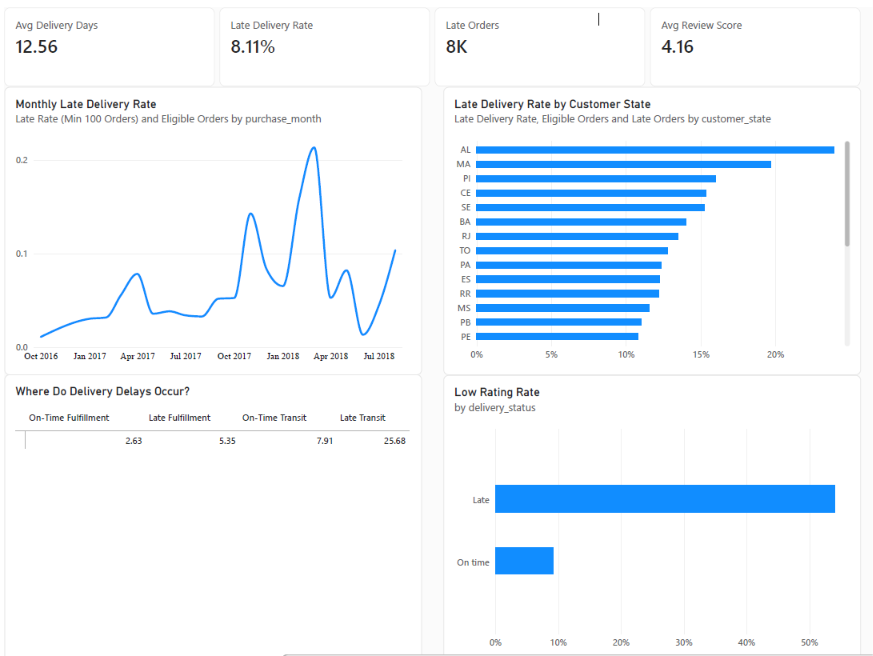

Layout of this report page (visuals, bound fields, positions):
{"tool":"powerbi","page":{"name":"Page 1","canvas":[1920,1080],"ordinal":0},"visuals":[{"type":"lineChart","title":"Monthly Late Delivery Rate","fields":{"Category":["dashboard_orders.purchase_month"],"Y":["dashboard_orders.Late Rate (Min 100 Orders)"]},"box":[0,121.7,641.7,443.3],"z":0},{"type":"cardVisual","fields":{"Data":["dashboard_orders.Avg Delivery Days","dashboard_orders.Late Delivery Rate","dashboard_orders.Late Orders","dashboard_orders.Avg Review Score"]},"box":[0,0,1316.7,121.7],"z":1000},{"type":"clusteredBarChart","title":"Late Delivery Rate by Customer State","fields":{"Category":["dashboard_orders.customer_state"],"Y":["dashboard_orders.Late Delivery Rate"]},"box":[675,121.7,641.7,443.3],"z":2000},{"type":"clusteredBarChart","fields":{"Category":["dashboard_orders.delivery_status"],"Y":["dashboard_orders.Low Rating Rate"]},"box":[675,565,641.7,443.3],"z":2002},{"type":"pivotTable","title":"Where Do Delivery Delays Occur?","fields":{"Values":["dashboard_orders.On-Time Fulfillment","dashboard_orders.Late Fulfillment","dashboard_orders.On-Time Transit","dashboard_orders.Late Transit"]},"box":[0,564,642,444],"z":2003}]}

Visuals, with their boxes on the page's 1920x1080 design canvas (x1, y1, x2, y2). These are canvas units, not pixel positions in the 873x656 screenshot, which may show the page scaled, cropped or inside an application window:
"Monthly Late Delivery Rate" lineChart: <region>0, 122, 642, 565</region>
cardVisual - dashboard_orders.Avg Delivery Days x dashboard_orders.Late Delivery Rate: <region>0, 0, 1317, 122</region>
"Late Delivery Rate by Customer State" clusteredBarChart: <region>675, 122, 1317, 565</region>
clusteredBarChart - dashboard_orders.delivery_status x dashboard_orders.Low Rating Rate: <region>675, 565, 1317, 1008</region>
"Where Do Delivery Delays Occur?" pivotTable: <region>0, 564, 642, 1008</region>
